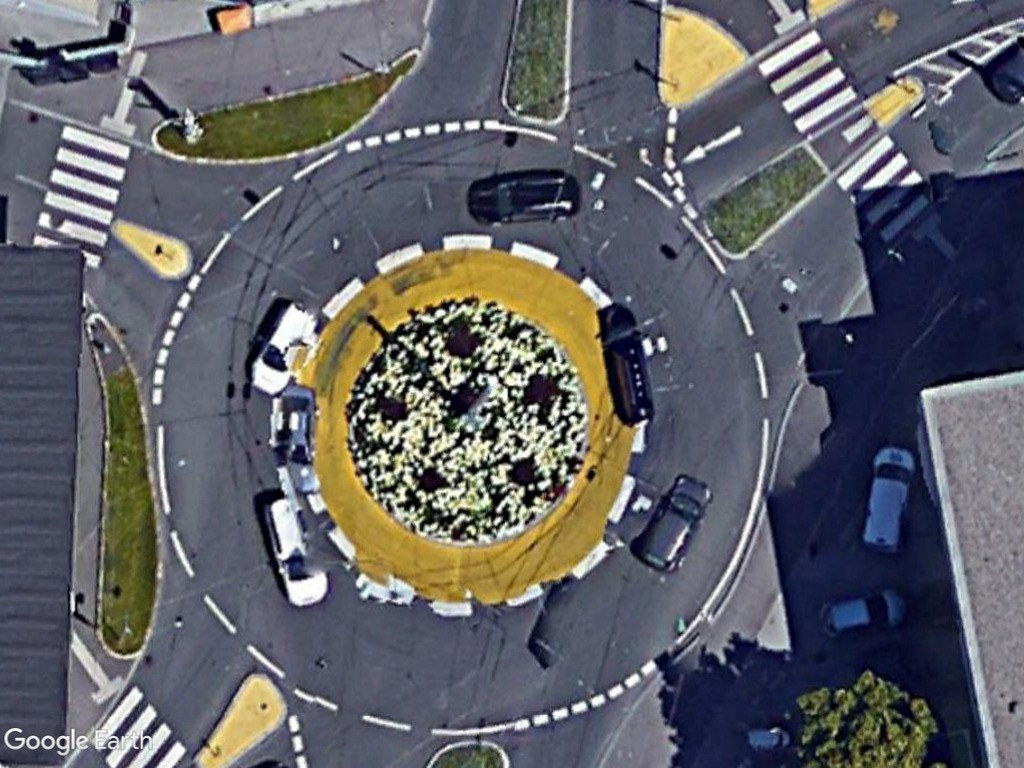car: (632, 470, 718, 576), (464, 167, 585, 226), (810, 584, 910, 642)
van: (853, 443, 921, 554)
